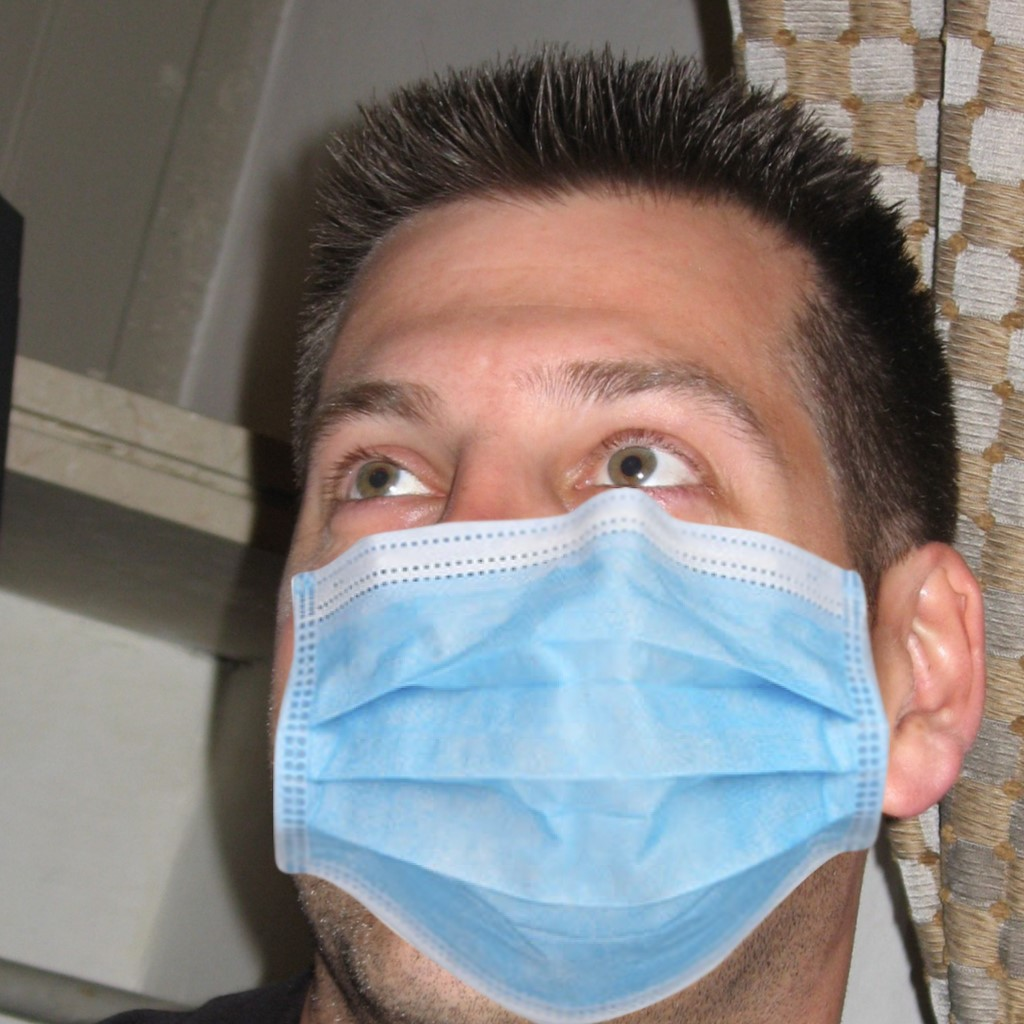con_mascara: (284, 150, 940, 998)
